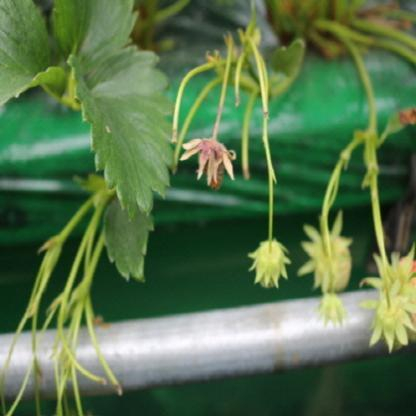Strawberry_Gray_Mold: (178, 132, 238, 192)
